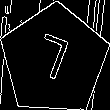L_S: (31, 30, 77, 89)
